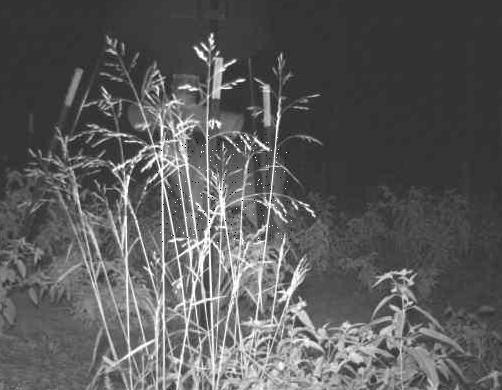Deer: (157, 134, 292, 243)
